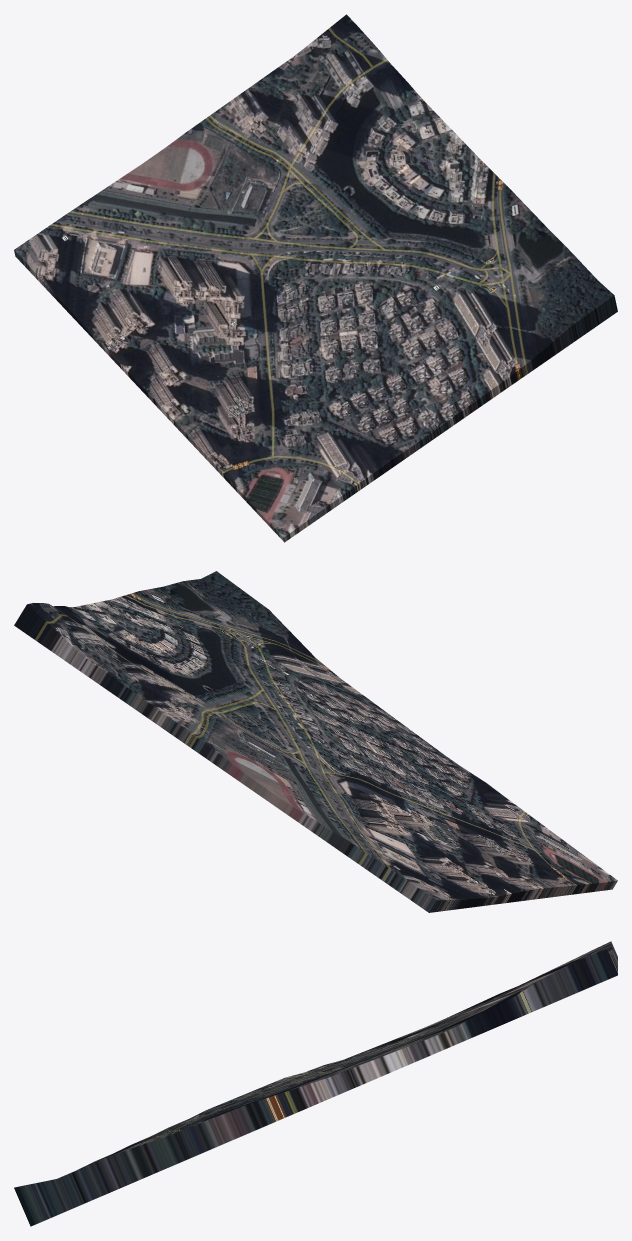
The picture shows the model from 3 angles, top to bottom: view 1: azimuth 30°, elevation 25°; view 2: azimuth 150°, elevation 25°; view 3: azimuth 270°, elevation 25°; orthographic projection. The views are drawn at different scales.
Parts seen in each view (by area): view 1: 0_1_0; view 2: 0_1_0; view 3: 0_1_0.
Boxes of the visible parts, x1,y1,x2,y2 form: 0_1_0: (14, 14, 617, 542); 0_1_0: (14, 571, 617, 912); 0_1_0: (14, 941, 617, 1226).
Size of the model in its own units: 598 by 450 by 557.
1 material, 1 textured.
